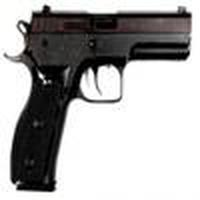gun: (6, 7, 189, 193)
